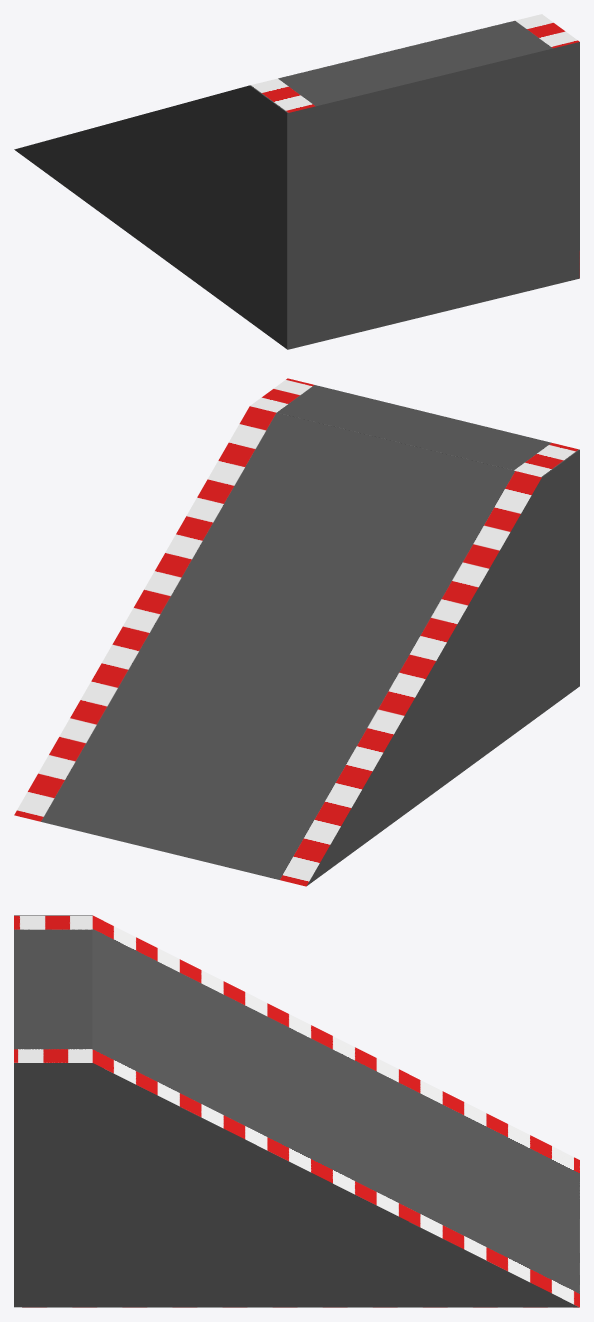
Rendered from ramp.fbx.
3 renders of one model, top to bottom at view 1: azimuth 30°, elevation 25°; view 2: azimuth 150°, elevation 25°; view 3: azimuth 270°, elevation 25°, orthographic. The views are drawn at different scales.
Parts seen in each view (by area): view 1: Ramp; view 2: Ramp; view 3: Ramp.
Boxes of the visible parts, x1,y1,x2,y2 form: Ramp: (14, 14, 579, 349); Ramp: (14, 378, 579, 886); Ramp: (14, 915, 579, 1307).
Bounding box in the file's own units: 77.65 × 60.08 × 126.
